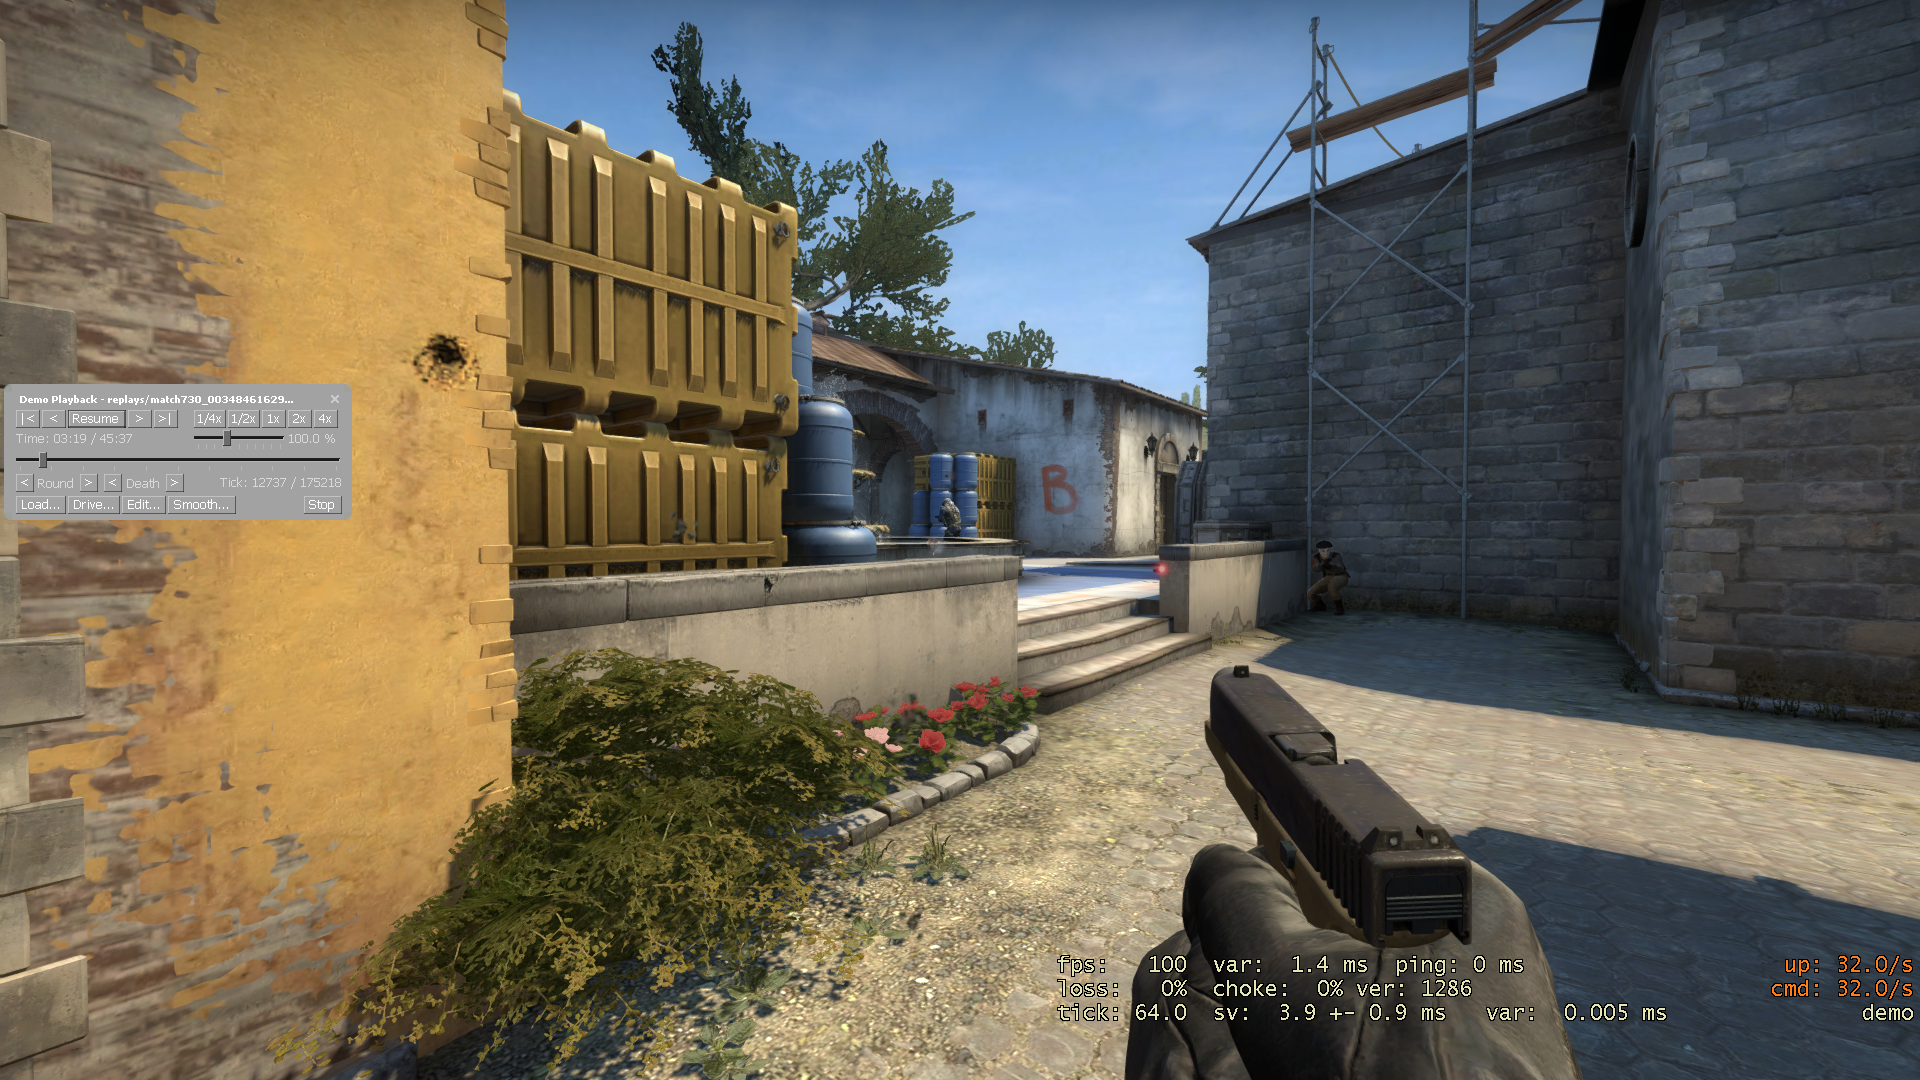ct: (938, 498, 961, 538)
t: (1308, 541, 1350, 616)
